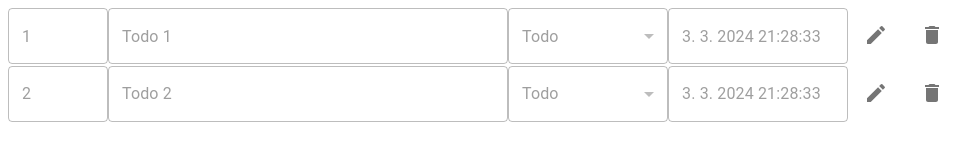
Scenario: TodoList › edits description
Click the button with test id "edit-1" at (876, 38), box left=848, top=10, right=904, bottom=66
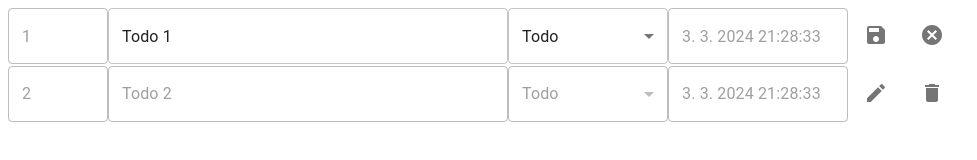
Click the button with test id "cancel-1" at (932, 38), box left=904, top=10, right=960, bottom=66
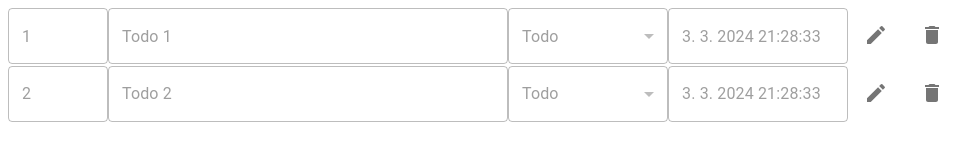
Click the button with test id "edit-1" at (876, 38), box left=848, top=10, right=904, bottom=66
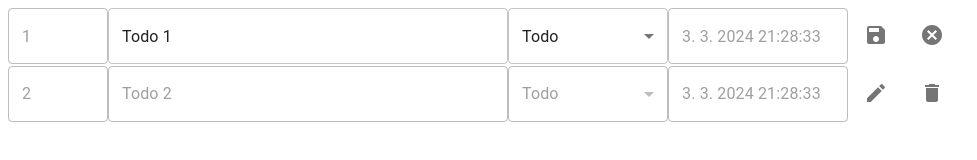
Replace the text in the field with test id "description-1" with "Updated Task 1" at (308, 36), box left=108, top=8, right=508, bottom=64
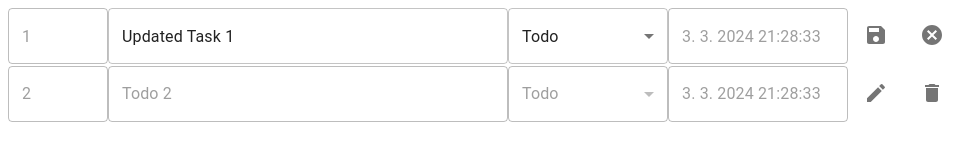
Click the button with test id "save-1" at (876, 38), box left=848, top=10, right=904, bottom=66
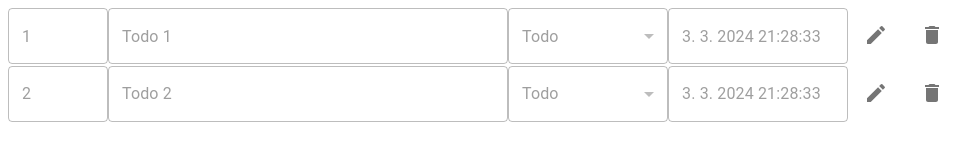
Expected: the field with test id "description-1" holds "Todo 1", left=108, top=8, right=508, bottom=64
